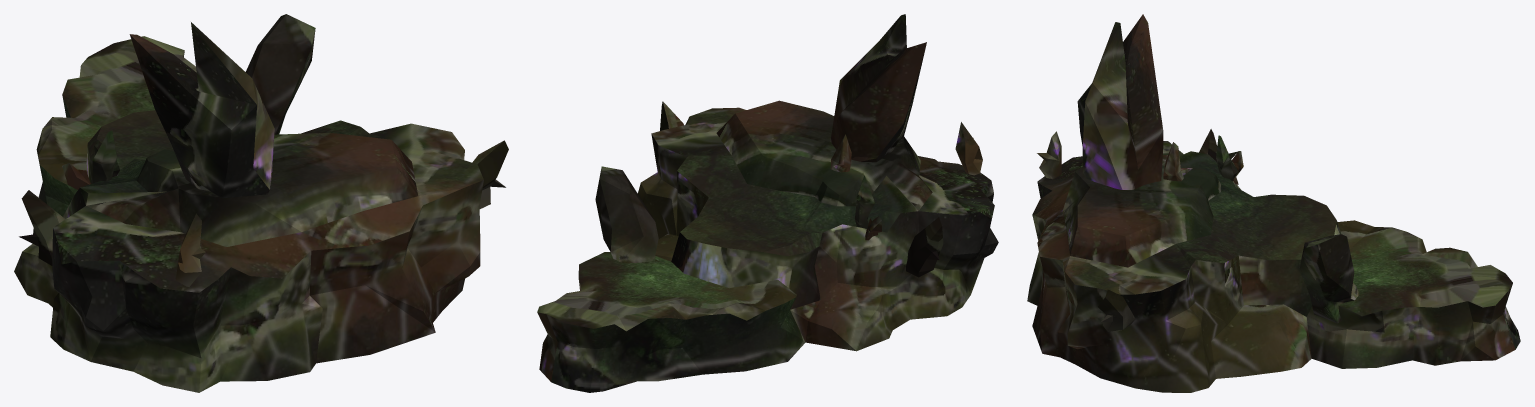
File: FlooorPlatform .fbx
3 renders of one model, left to right at view 1: azimuth 30°, elevation 25°; view 2: azimuth 150°, elevation 25°; view 3: azimuth 270°, elevation 25°, orthographic. The views are drawn at different scales.
Parts seen in each view (by area): view 1: FlooorPlatform.001; view 2: FlooorPlatform.001; view 3: FlooorPlatform.001.
Boxes of the visible parts, bbox=[...] form: FlooorPlatform.001: bbox=[14, 14, 508, 392]; FlooorPlatform.001: bbox=[537, 14, 998, 392]; FlooorPlatform.001: bbox=[1027, 14, 1520, 392].
Size of the model in its own units: 30.47 by 21.89 by 38.28.
1 material, 1 textured.
